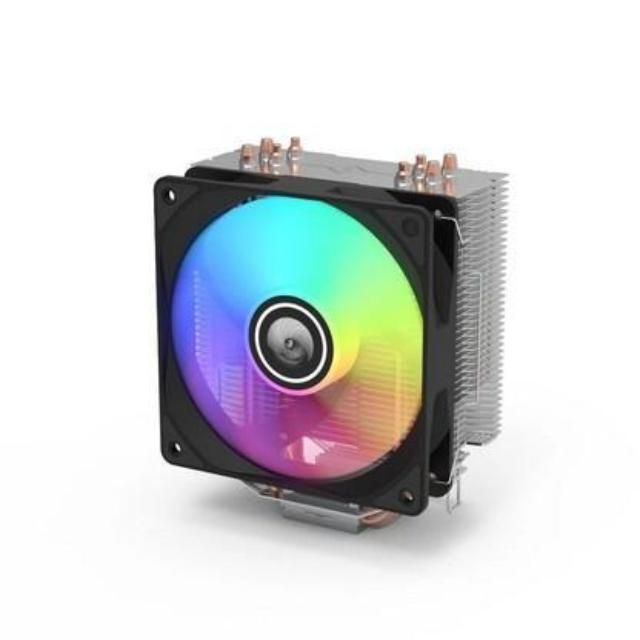CPU_Fan: (150, 138, 513, 536)
